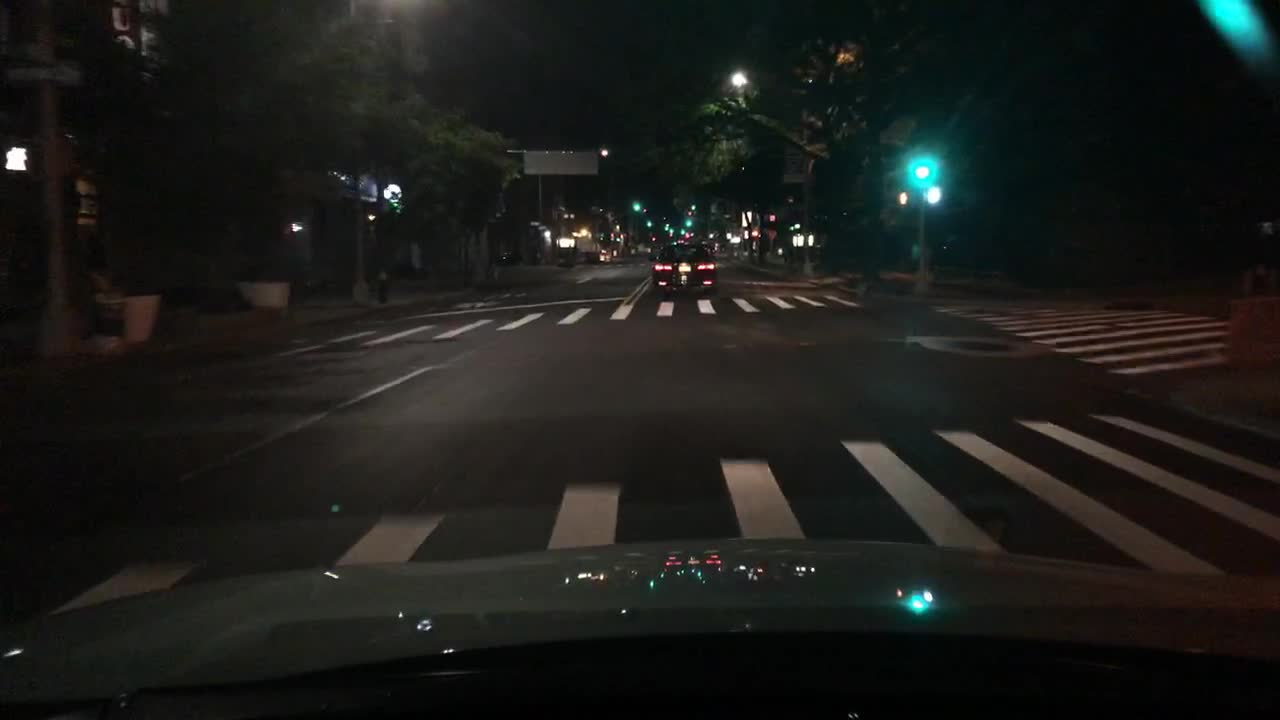car: (1221, 262, 1278, 418), (648, 242, 720, 294), (496, 250, 523, 267), (647, 243, 663, 261), (704, 244, 718, 257)
traffic light: (3, 145, 29, 170), (909, 158, 932, 183), (924, 186, 942, 204), (897, 190, 909, 206), (632, 202, 640, 211), (684, 218, 691, 226), (679, 228, 686, 236), (645, 219, 651, 227)
traffic sign: (9, 60, 82, 91), (521, 151, 598, 175), (783, 145, 805, 183)
